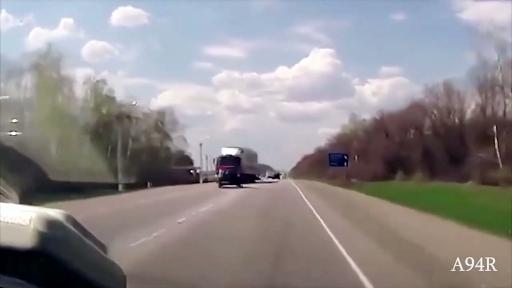Accident-fire-smoke: (0, 72, 180, 288)
